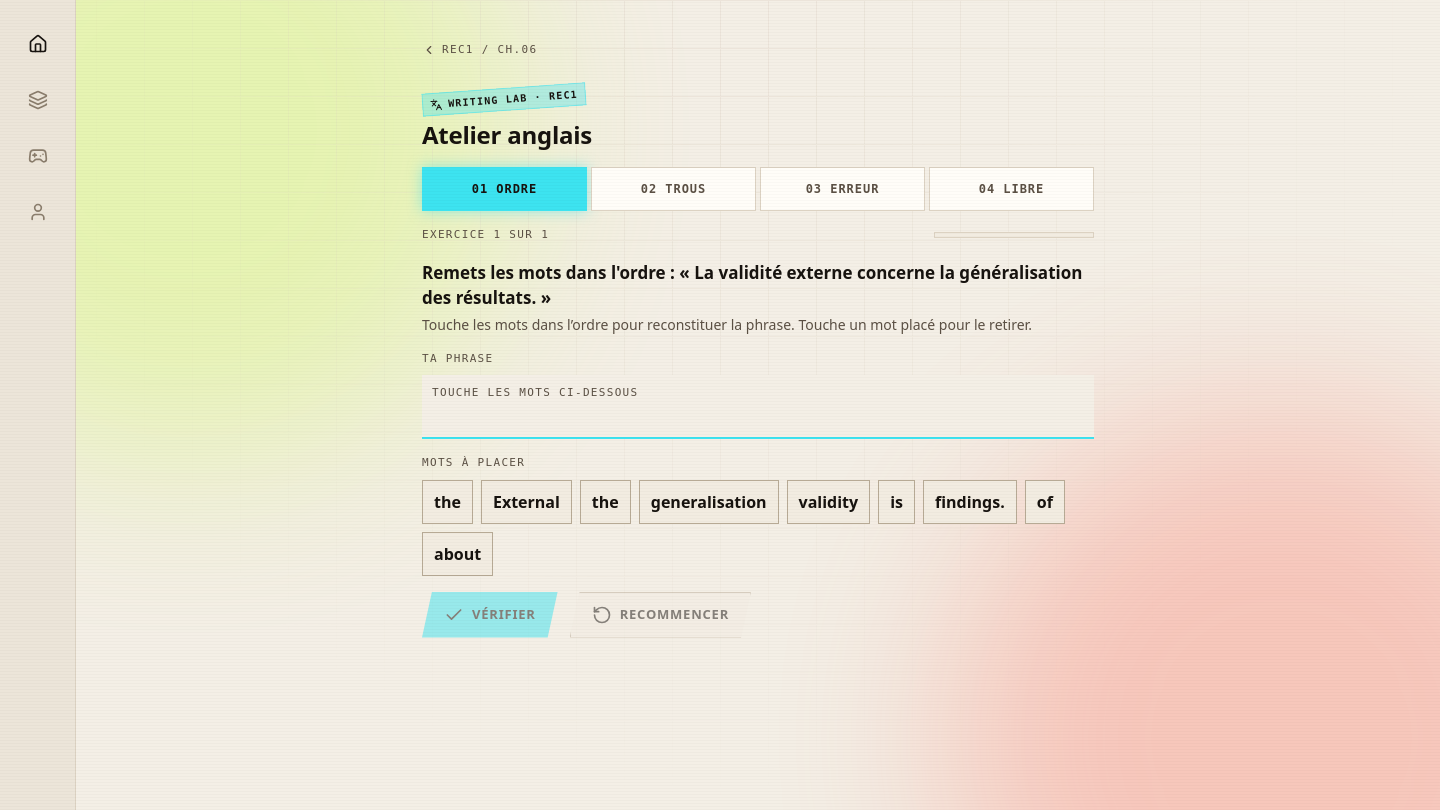
atelier anglais REC1-05 › niveau 3 : mot hors du fragment → raté ; le « of » du fragment compte, pas celui de « validity of »
Expected: the element named "Niveaux de l’atelier" is shown, 422,167 -> 1094,211
What coordinates should you click on to do the following:
click the tab "03 ERREUR"
I would click on:
 (842, 189)
Its box is 760,167 -> 925,211.
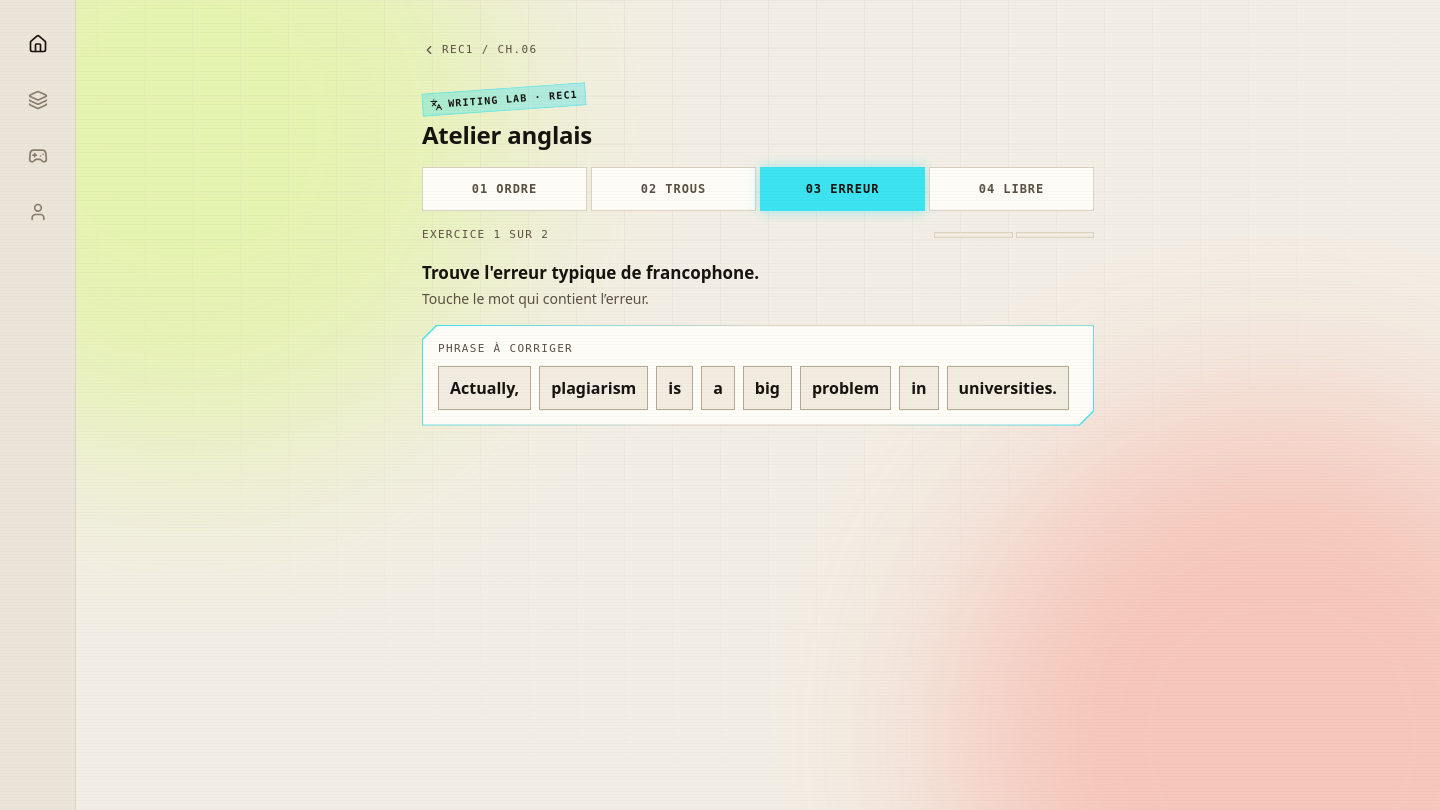
What coordinates should you click on to do the following:
click the button "Actually,"
I would click on:
 (485, 388)
Its box is 438,366 -> 531,410.
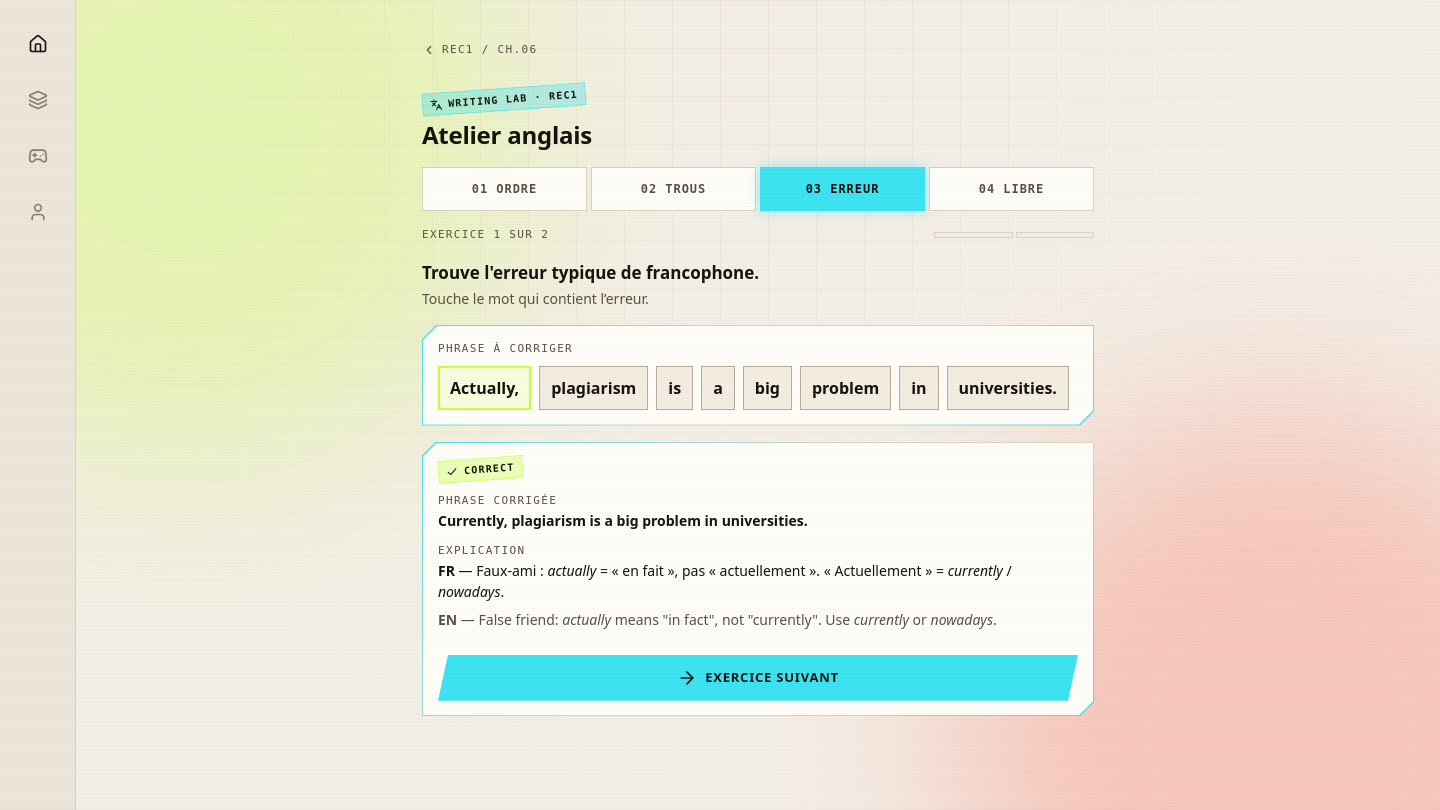
What coordinates should you click on to do the following:
click the button "Exercice suivant"
I would click on:
 (758, 677)
Its box is 438,654 -> 1078,700.
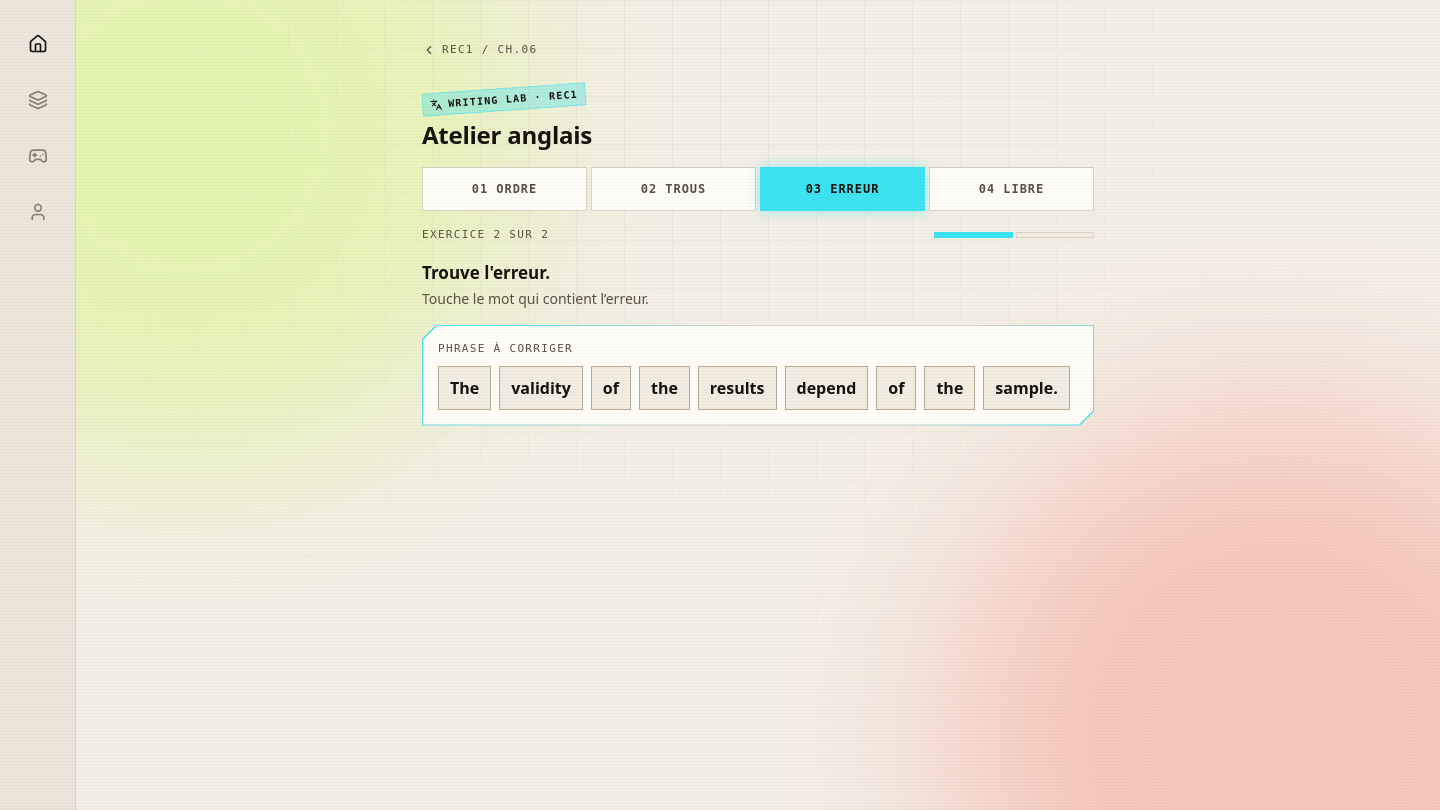
What coordinates should you click on to do the following:
click the 1st button "of"
I would click on:
 (611, 388)
Its box is 591,366 -> 631,410.
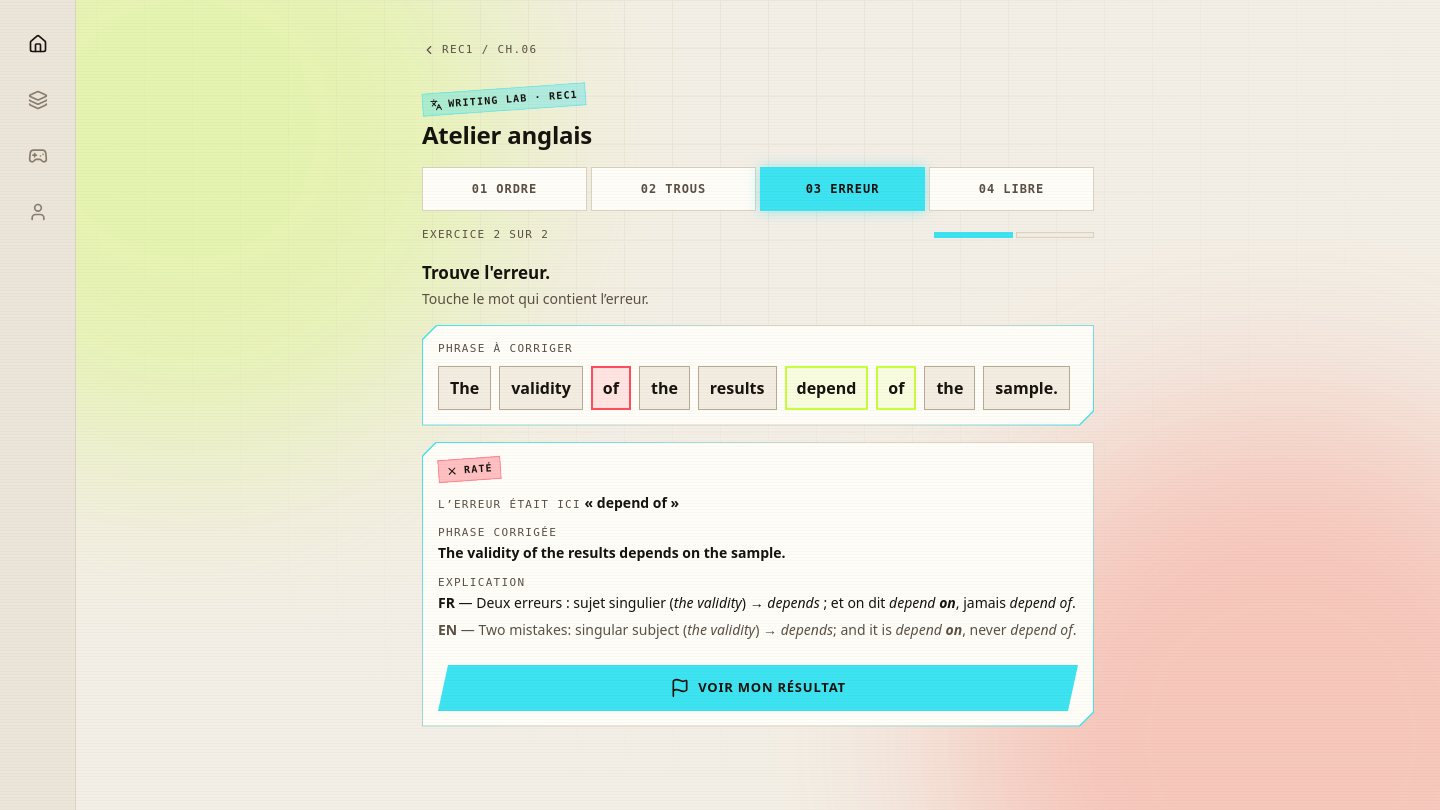
Expected: the element "Raté" is shown, 438,458 -> 1078,711
Expected: the text "« depend of »" is shown, 585,492 -> 679,512
